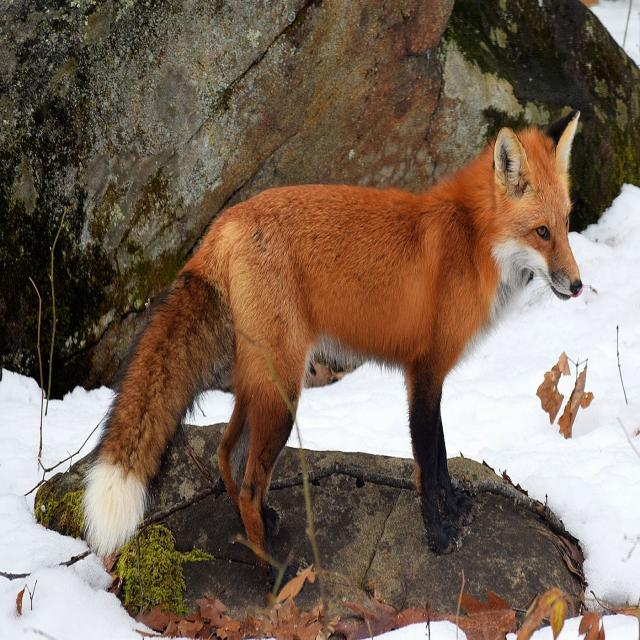fox: (80, 107, 584, 584)
